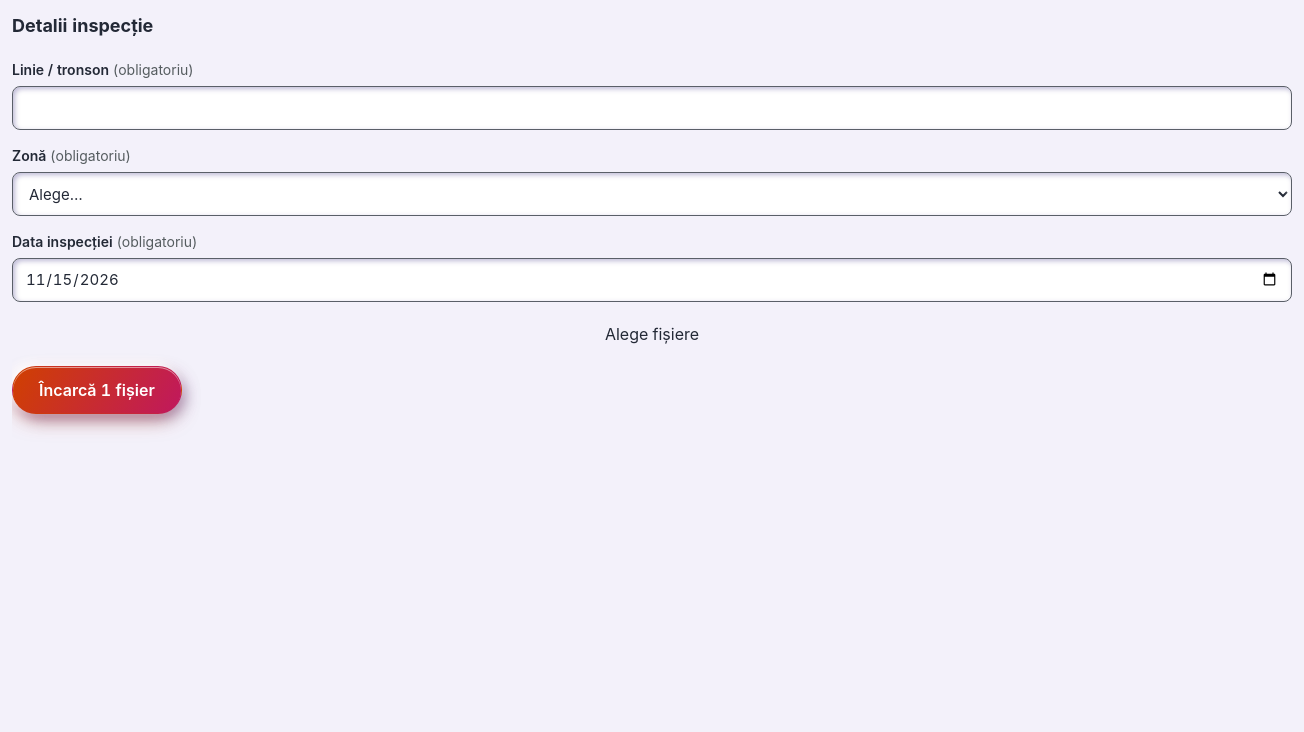
Test: MetadataForm › a fixed field loses its error as it changes, so nothing moves under the next click
Click the button "Încarcă 1 fișier".
click(97, 390)  # box x1=12 y1=366 x2=182 y2=414
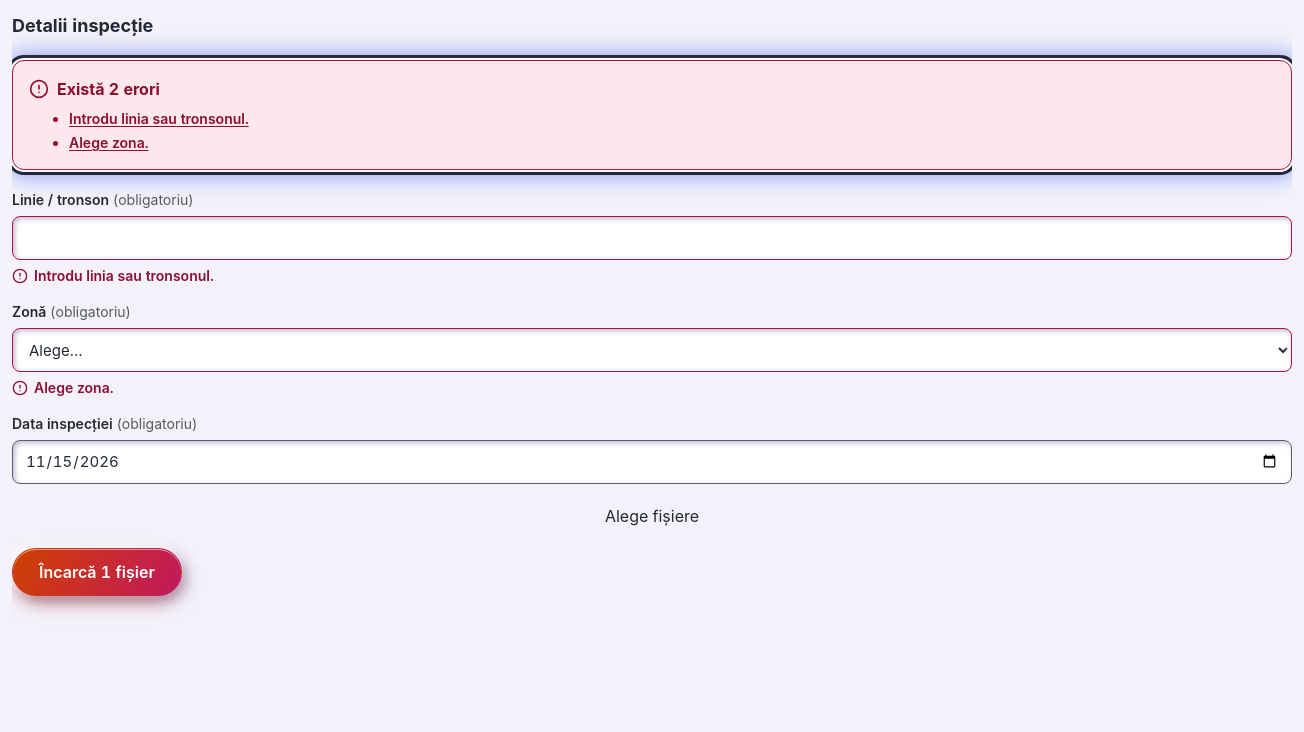
Result: the text "Alege zona." is shown at x1=12 y1=379 x2=114 y2=396
Select "Muntenia" in the dropdown labelled "Zonă (obligatoriu)" at coordinates (652, 350), box x1=12 y1=328 x2=1292 y2=372
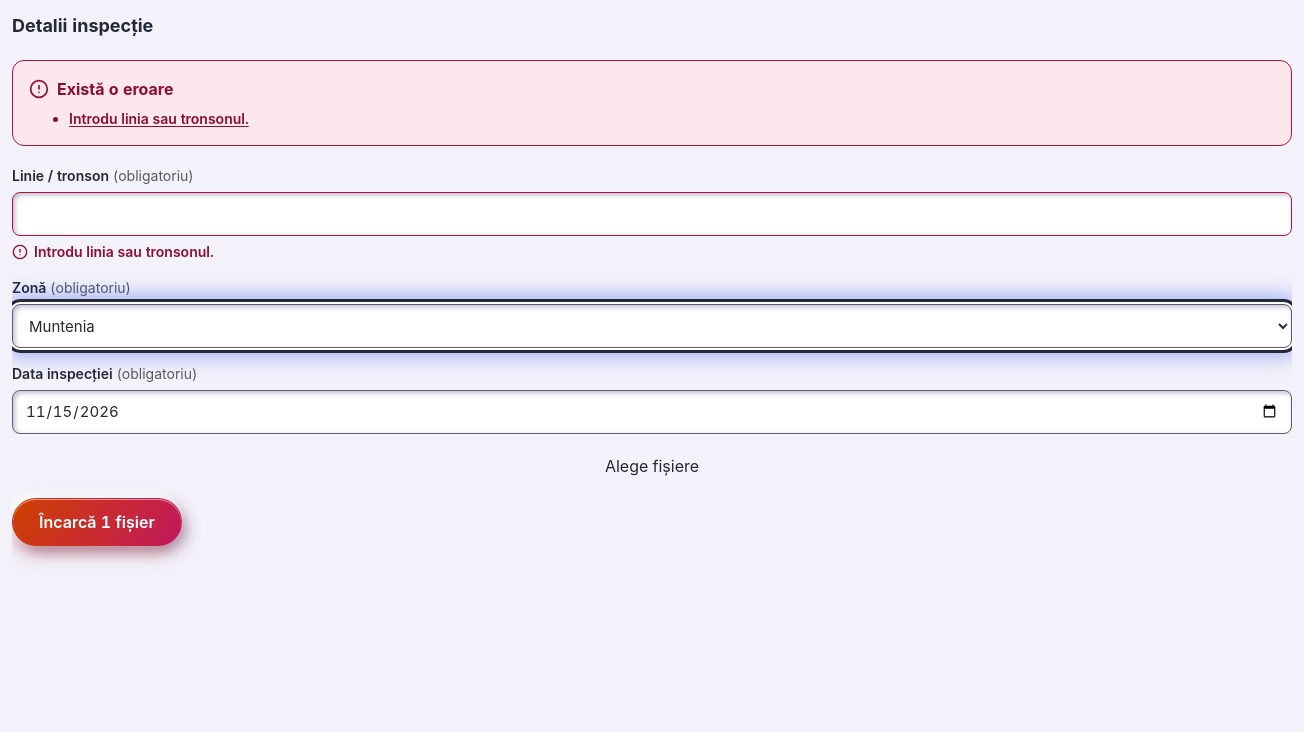
Result: the link "Alege zona." is gone
